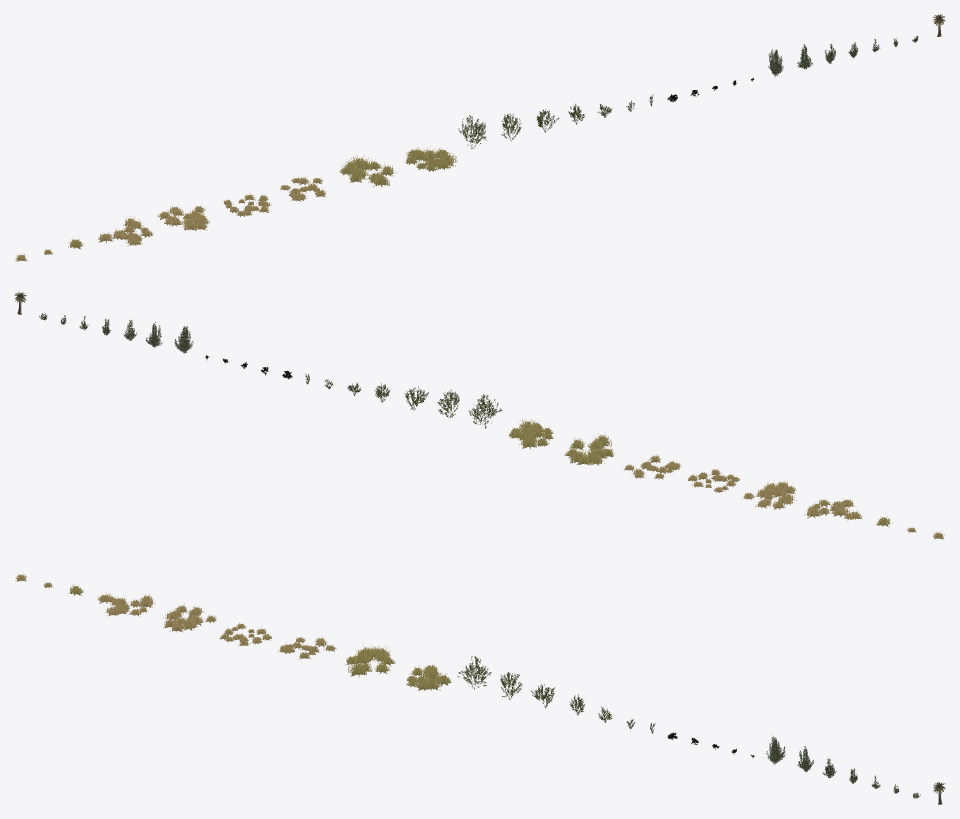
Rendered from plants.glb.
The picture shows the model from 3 angles, top to bottom: view 1: azimuth 30°, elevation 25°; view 2: azimuth 150°, elevation 25°; view 3: azimuth 330°, elevation 25°; orthographic projection.
Visible parts, largest first — view 1: patch_c0, patch_c1, patch_a1, patch_a0, patch_b1, patch_b0; view 2: patch_c0, patch_a1, patch_c1, patch_a0, patch_b1, patch_b0; view 3: patch_c0, patch_a1, patch_c1, patch_a0, patch_b1, patch_b0.
Boxes of the visible parts, x1,y1,x2,y2 form: patch_c0: (339, 155, 396, 187); patch_c1: (404, 146, 457, 171); patch_a1: (157, 205, 209, 230); patch_a0: (98, 216, 153, 246); patch_b1: (280, 176, 326, 201); patch_b0: (222, 193, 271, 216); patch_c0: (564, 431, 614, 465); patch_a1: (743, 479, 796, 509); patch_c1: (508, 418, 553, 448); patch_a0: (804, 498, 862, 520); patch_b1: (623, 455, 681, 479); patch_b0: (687, 468, 740, 492); patch_c0: (345, 644, 395, 677); patch_a1: (163, 603, 216, 632); patch_c1: (406, 662, 451, 690); patch_a0: (97, 593, 155, 616); patch_b1: (278, 637, 336, 659); patch_b0: (219, 623, 272, 646).
Bounding box in the file's own units: 67.38 × 2.37 × 4.13.
Materials: 12 (12 with a texture image).
